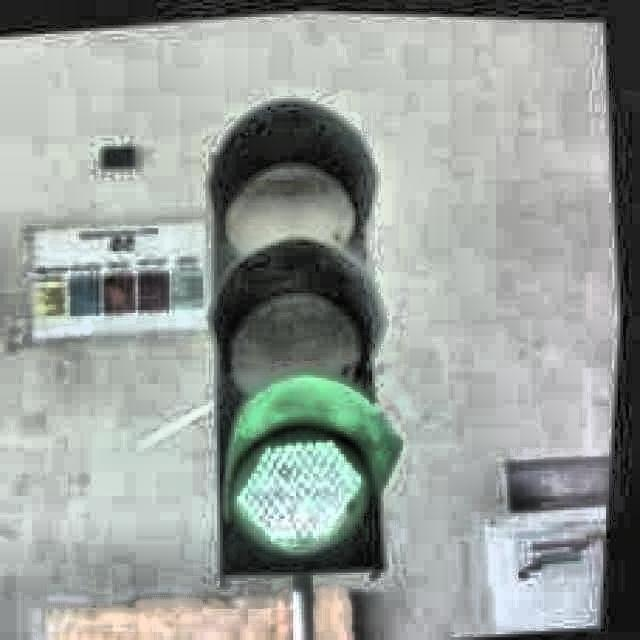green: (216, 111, 398, 584)
